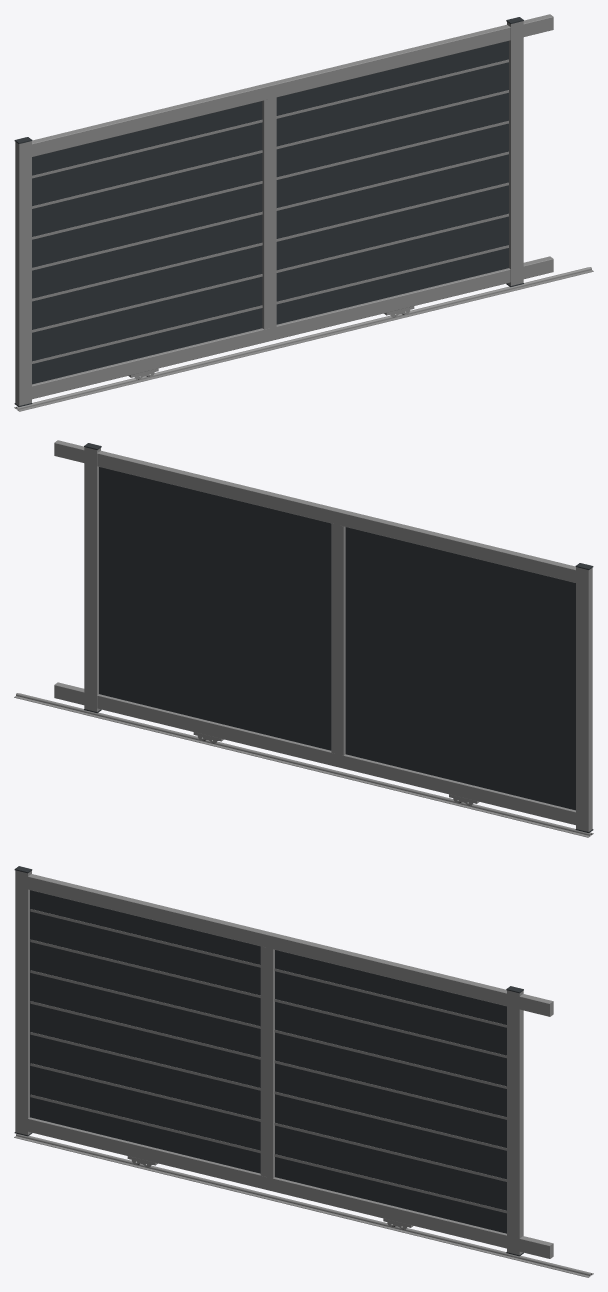
3 renders of one model, top to bottom at view 1: azimuth 30°, elevation 25°; view 2: azimuth 150°, elevation 25°; view 3: azimuth 330°, elevation 25°, orthographic.
Parts seen in each view (by area): view 1: Chapa Alucobond018, Shape107412564, Shape107412565, Pilar, Pilar001, Rail, Shape107412815, Line003, Line008, Line007, Line004, Line005 (+2 smaller); view 2: Chapa Alucobond018, Shape107412564, Shape107412565, Pilar, Pilar001, Rail, Shape107412815; view 3: Chapa Alucobond018, Shape107412564, Shape107412565, Pilar001, Pilar, Rail, Shape107412815, Line003, Line009, Line008, Line004, Line007 (+2 smaller).
Part boxes in pixels (box(x1,y1,x2,y2)): Chapa Alucobond018: box(32, 41, 508, 384); Shape107412564: box(32, 14, 553, 156); Shape107412565: box(32, 256, 553, 399); Pilar: box(15, 141, 31, 405); Pilar001: box(507, 21, 523, 285); Rail: box(14, 267, 593, 411); Shape107412815: box(262, 97, 276, 329); Line003: box(32, 59, 508, 178); Line008: box(32, 213, 508, 332); Line007: box(32, 182, 508, 301); Line004: box(32, 90, 508, 208); Line005: box(32, 121, 508, 239); Chapa Alucobond018: box(99, 467, 575, 810); Shape107412564: box(54, 440, 575, 582); Shape107412565: box(54, 682, 575, 825); Pilar: box(576, 567, 592, 831); Pilar001: box(84, 447, 100, 711); Rail: box(14, 693, 593, 837); Shape107412815: box(331, 523, 345, 755); Chapa Alucobond018: box(30, 890, 506, 1233); Shape107412564: box(28, 874, 553, 1016); Shape107412565: box(28, 1117, 553, 1258); Pilar001: box(507, 990, 523, 1255); Pilar: box(15, 870, 31, 1135); Rail: box(14, 1133, 593, 1277); Shape107412815: box(260, 946, 274, 1178); Line003: box(30, 909, 506, 1027); Line009: box(30, 1094, 506, 1213); Line008: box(30, 1063, 506, 1181); Line004: box(30, 939, 506, 1058); Line007: box(30, 1032, 506, 1150).
Size of the model in its own units: 3600 by 1606 by 60.02.
9 materials, 4 textured.
